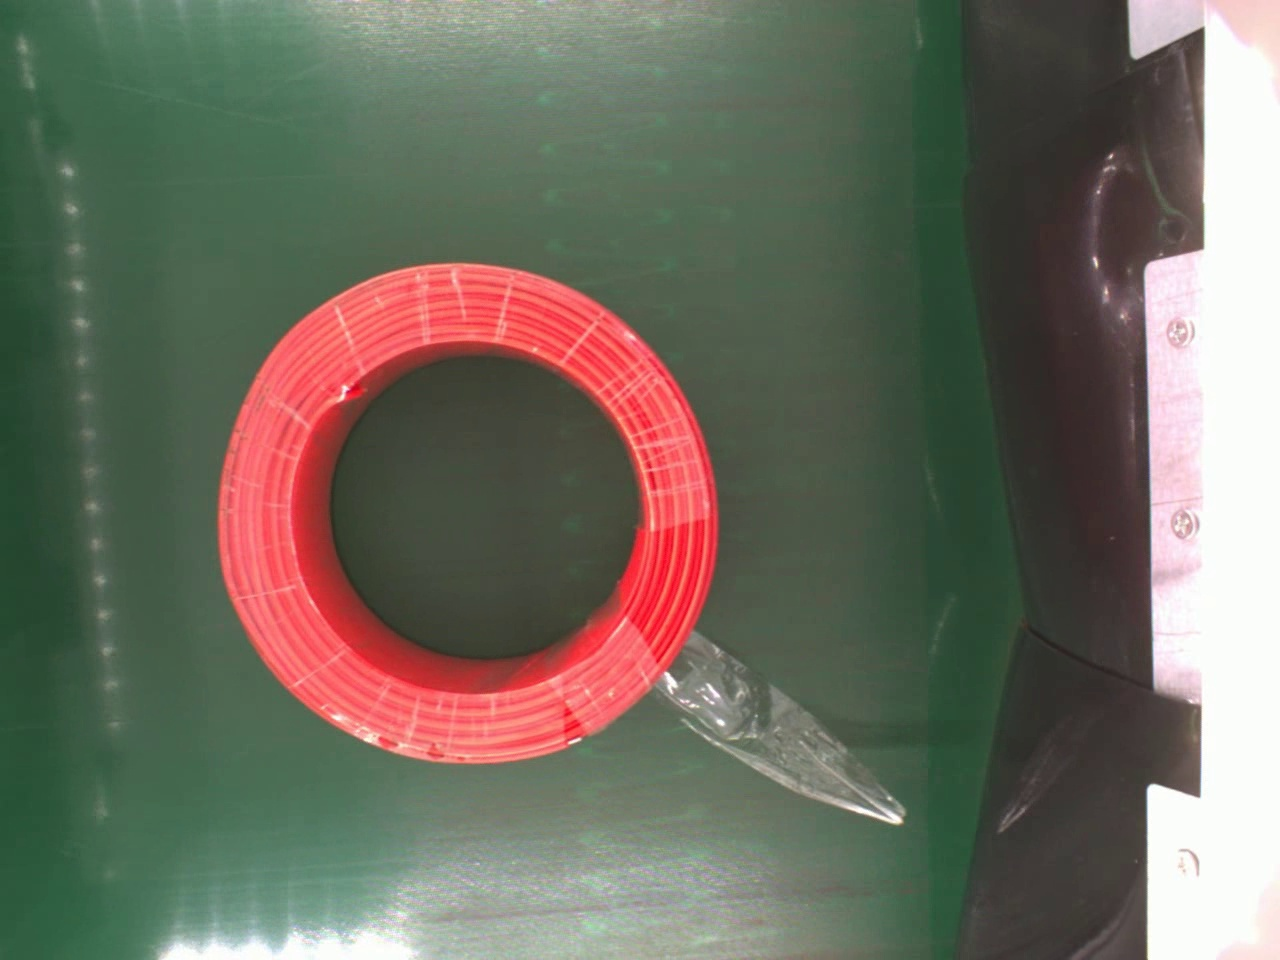red: (215, 260, 722, 769)
